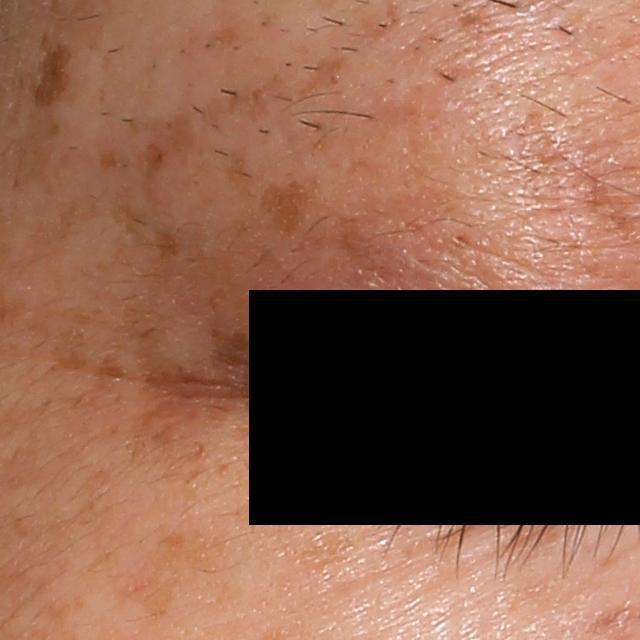melasma: (139, 39, 371, 178), (110, 524, 238, 620), (124, 401, 216, 485), (195, 320, 284, 392), (24, 39, 74, 112), (259, 175, 310, 235), (197, 12, 244, 59), (92, 349, 122, 385), (151, 230, 179, 267)
